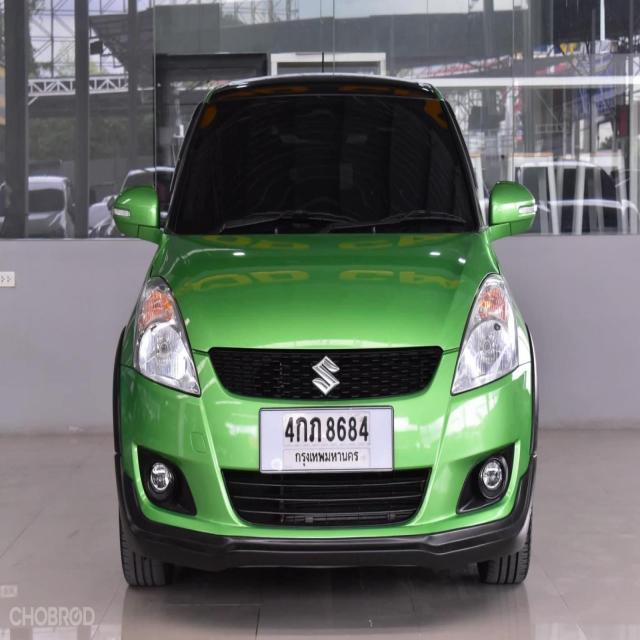license_plate: (258, 404, 395, 476)
